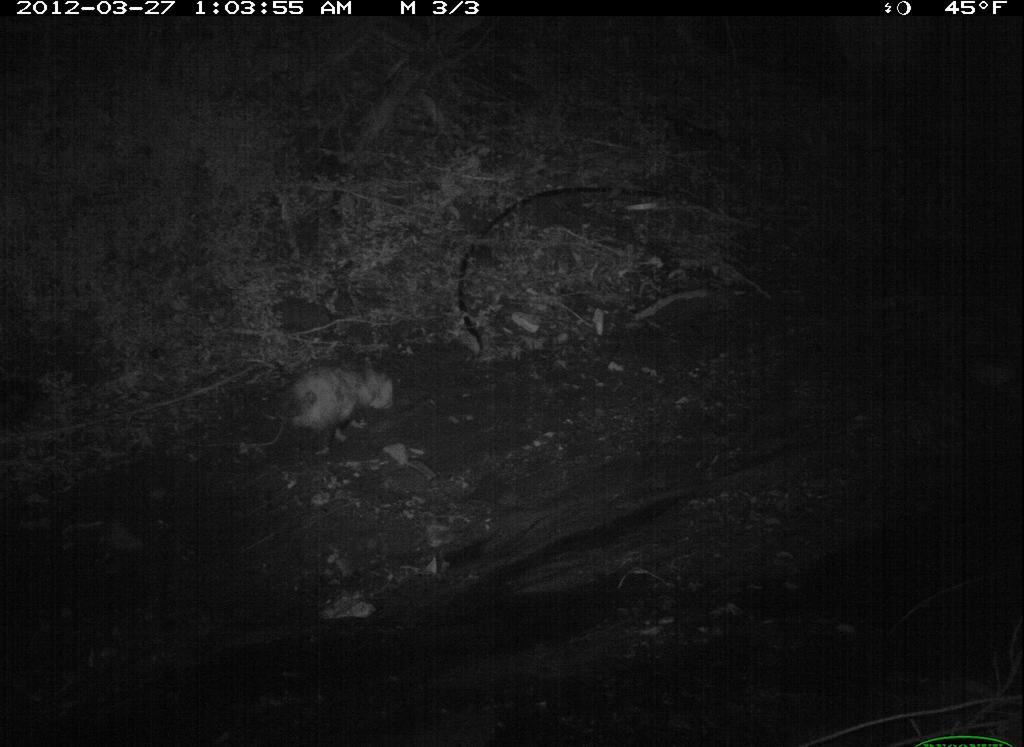opossum: (249, 345, 409, 454)
